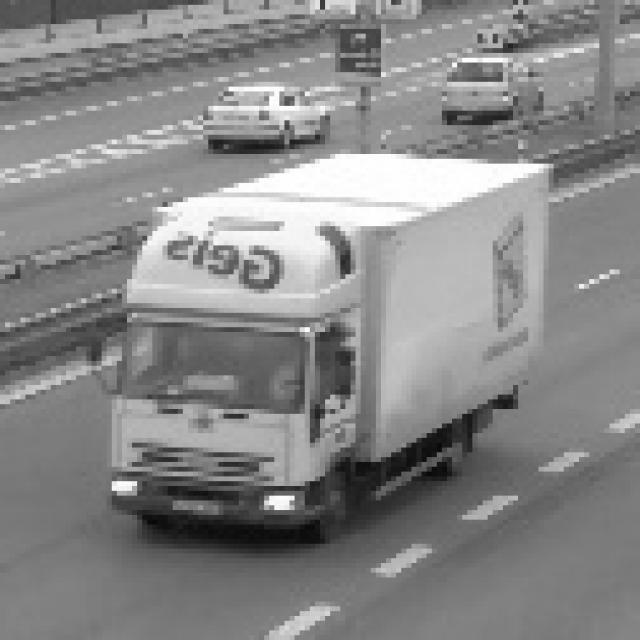truck: (75, 186, 392, 543)
